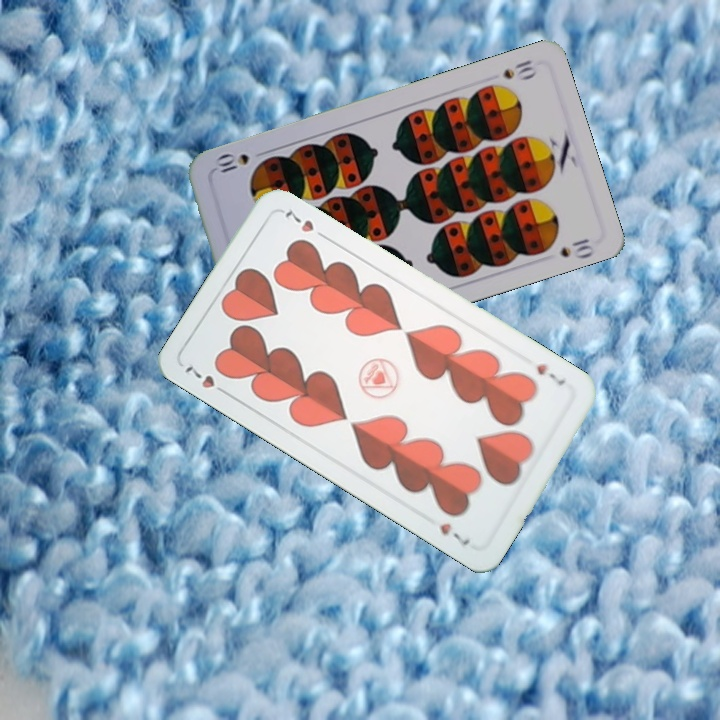H7: (181, 362, 232, 399), (532, 359, 568, 389)
S10: (498, 56, 540, 83)
